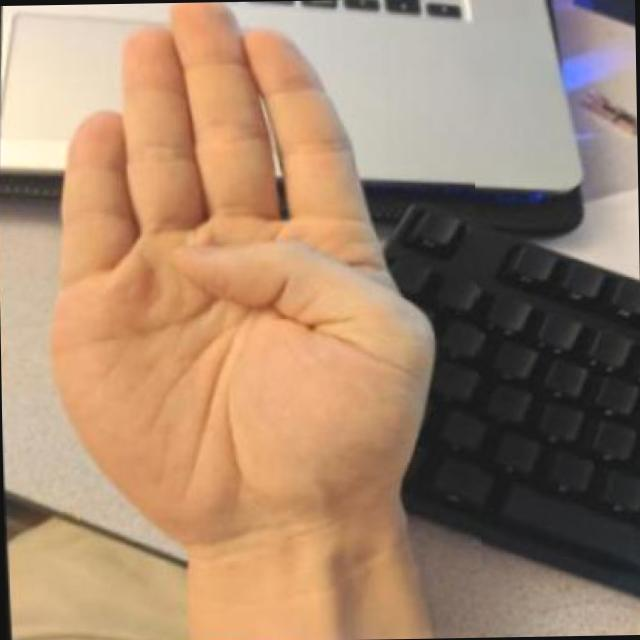B: (2, 0, 481, 590)
